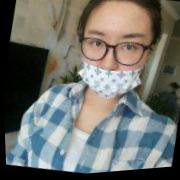WRONG: (71, 8, 157, 109)
